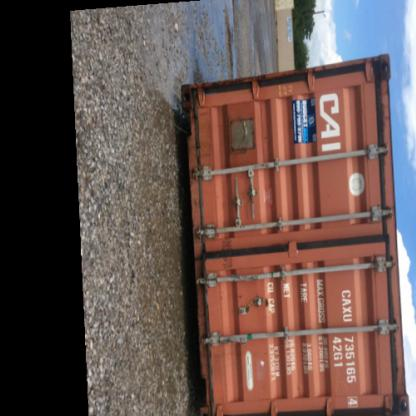Damage: (188, 269, 223, 413), (180, 86, 212, 238), (214, 233, 238, 274)
